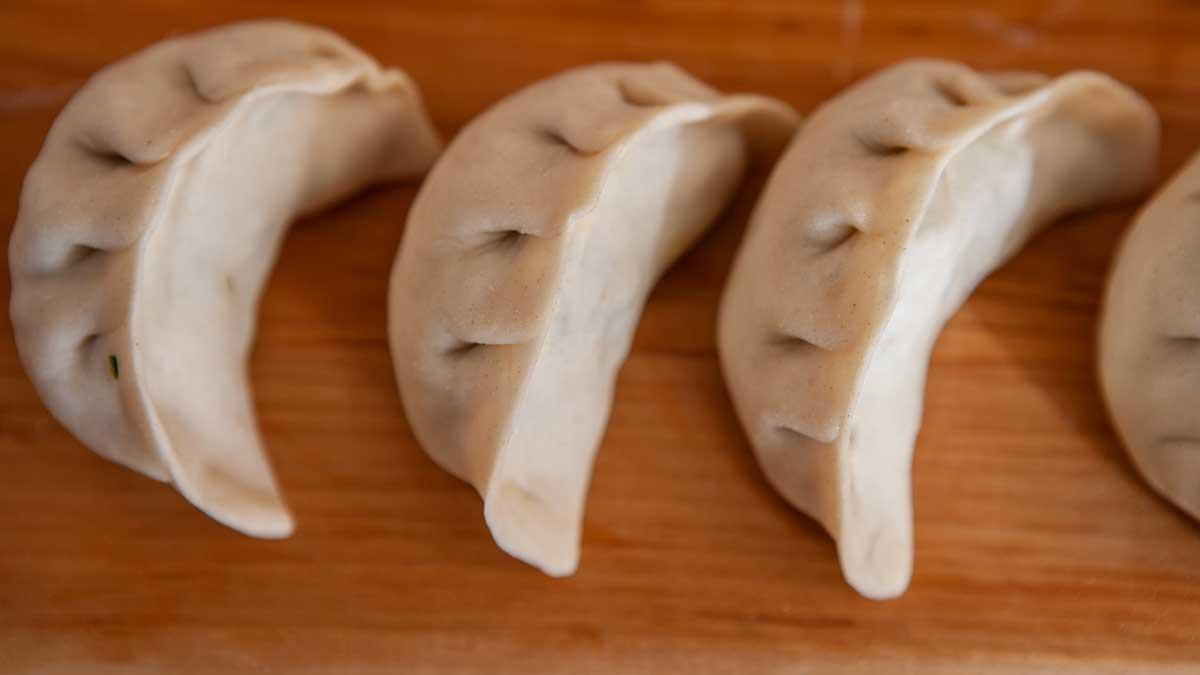momos: (720, 61, 1158, 598), (9, 21, 438, 536), (389, 66, 797, 574), (396, 63, 748, 575)
